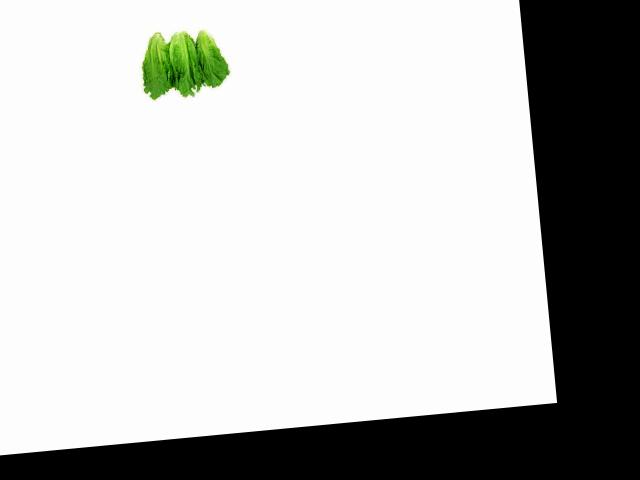lettuce: (188, 13, 231, 91)
